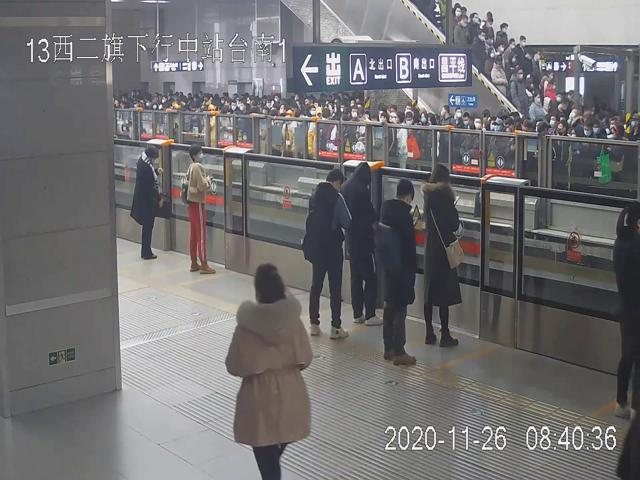person: (226, 260, 313, 480), (300, 169, 351, 339), (376, 178, 420, 365), (421, 163, 461, 345), (342, 162, 380, 326), (182, 142, 216, 273), (130, 142, 161, 262)
